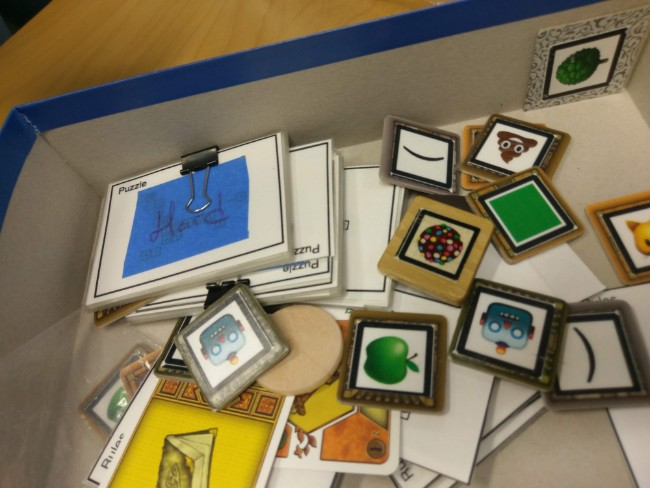cookie: (385, 206, 485, 283)
